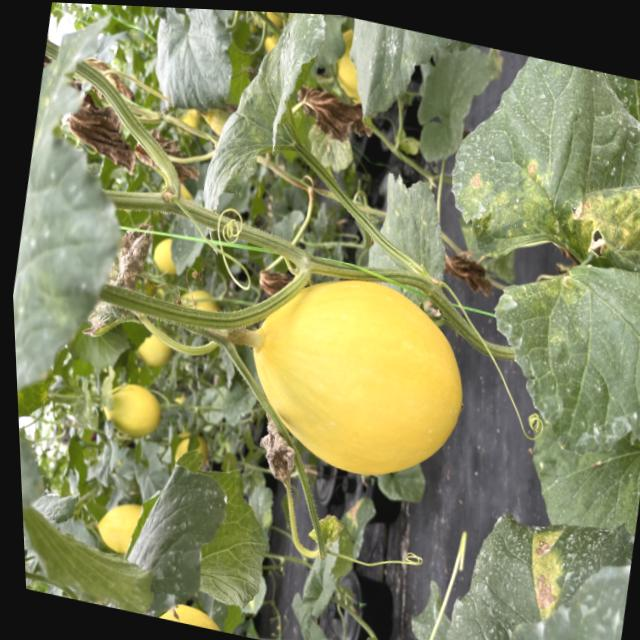CMV: (423, 39, 640, 313)
bacterial wilt: (62, 94, 140, 168), (291, 79, 366, 142)
downy mildew: (455, 229, 640, 536), (189, 8, 338, 226)
